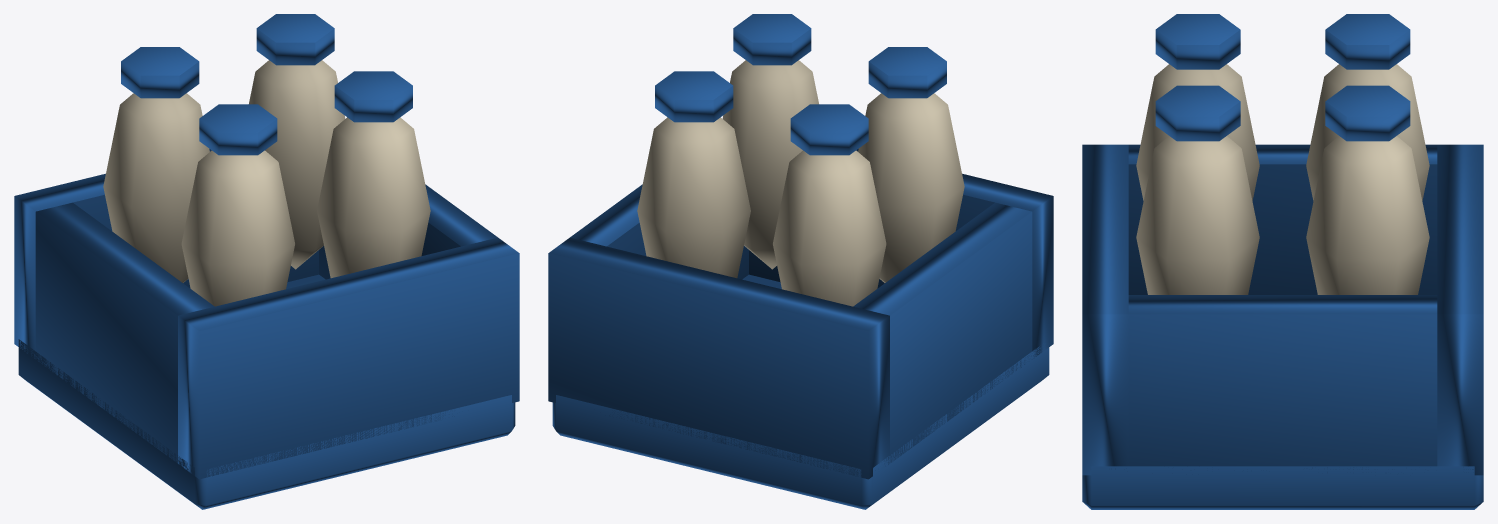
Rendered from cargo_milk.glb.
3 renders of one model, left to right at view 1: azimuth 30°, elevation 25°; view 2: azimuth 150°, elevation 25°; view 3: azimuth 270°, elevation 25°, orthographic. The views are drawn at different scales.
Visible parts, largest first — view 1: cargo_milk; view 2: cargo_milk; view 3: cargo_milk.
Boxes of the visible parts, x1,y1,x2,y2 form: cargo_milk: (14,14,519,509); cargo_milk: (548,14,1053,509); cargo_milk: (1082,14,1483,509).
Bounding box in the file's own units: 0.52 × 0.5195 × 0.52.
